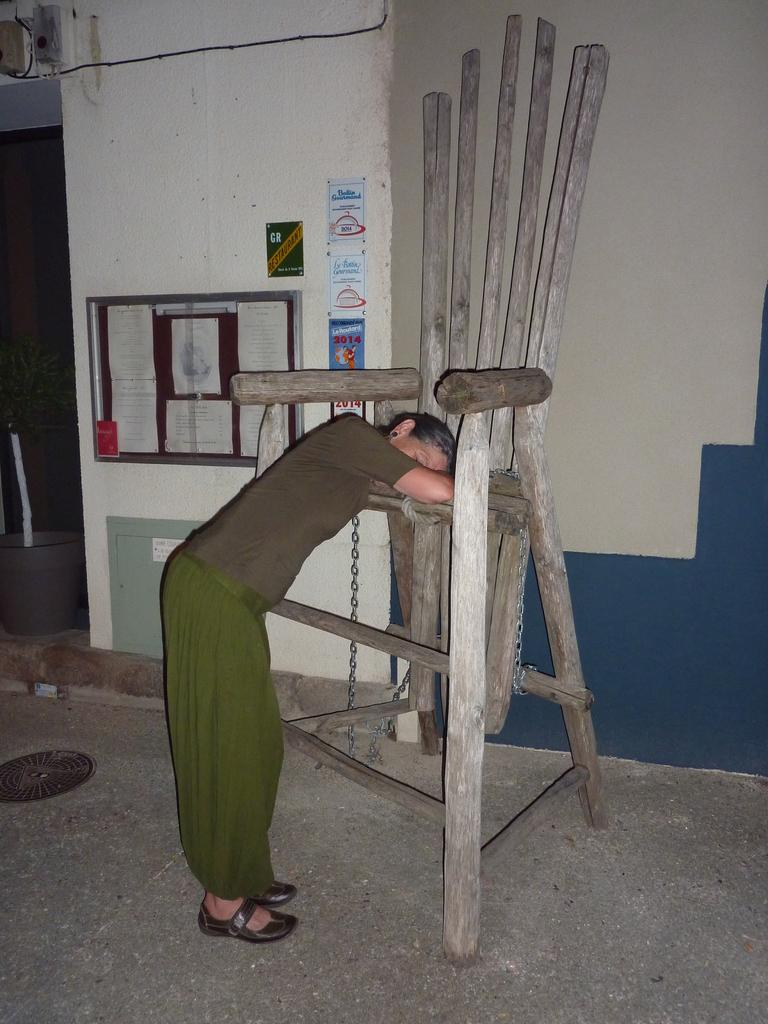Sem Máscara: (396, 433, 450, 467)
